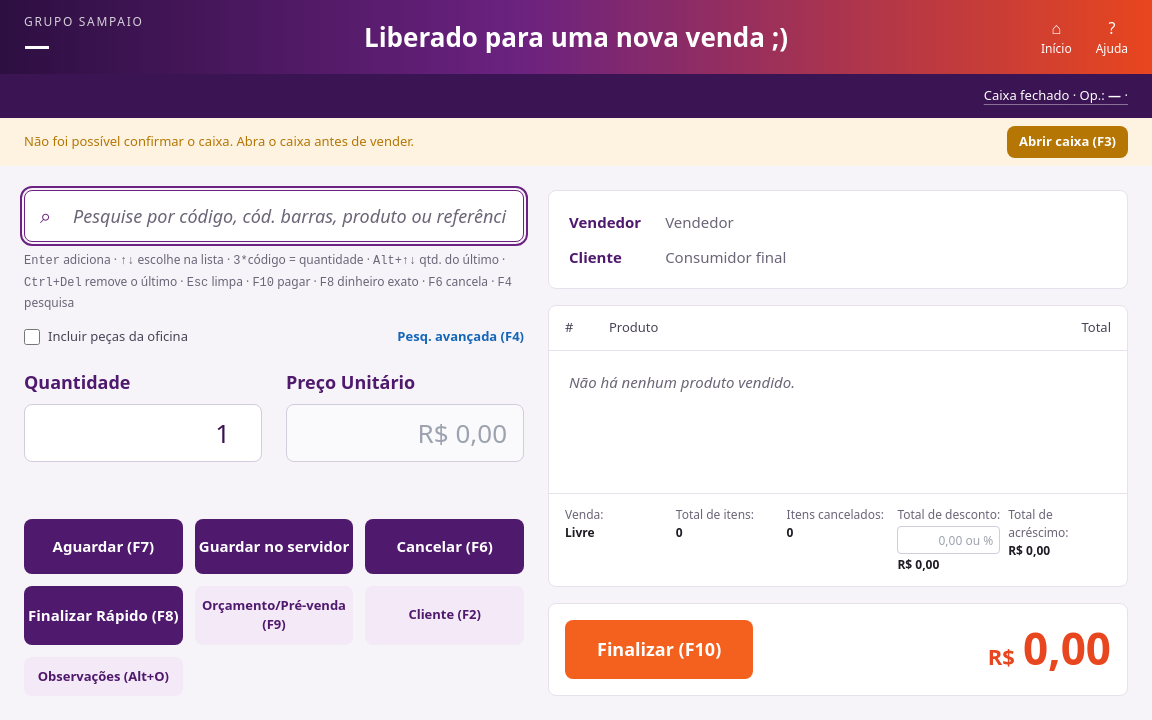
Test: a busca viva do F2 › quem só filtra achando de menos não some com o resto: termo vazio lista todos
What coordinates should you click on to do the following:
click the button "Cliente (F2)"
I would click on:
 (445, 615)
Its box is x1=365 y1=586 x2=524 y2=644.
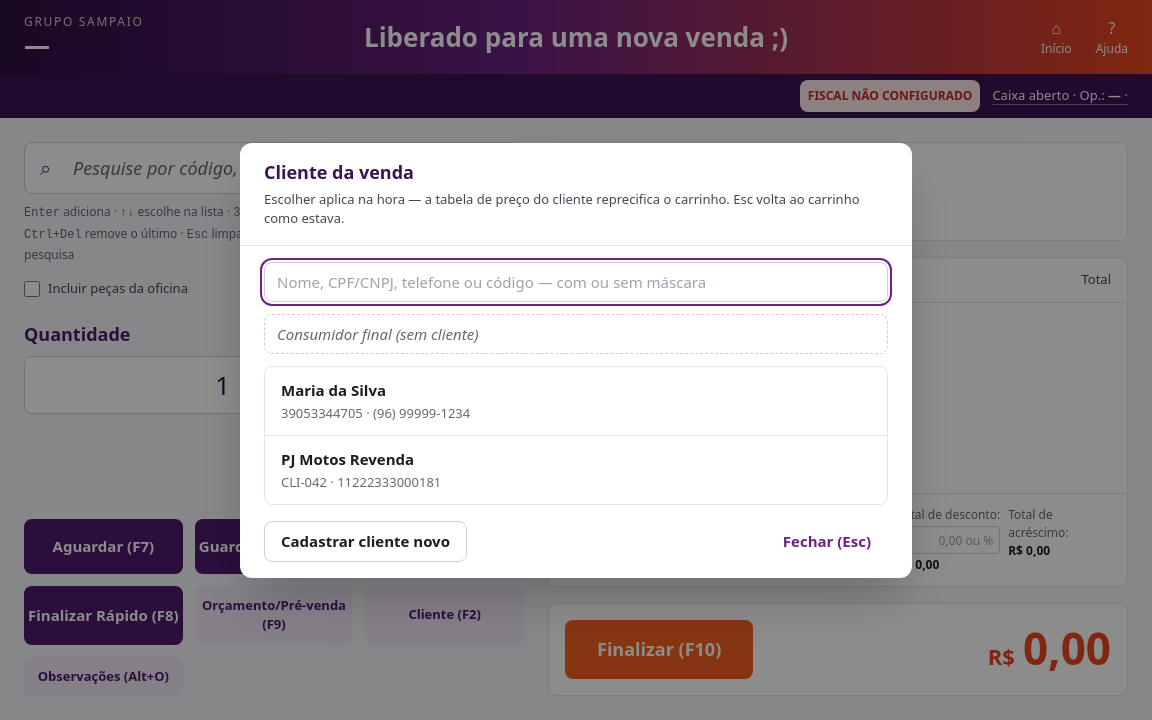
Result: the button "Maria da Silva" is shown at x1=265 y1=367 x2=887 y2=435
Result: the button "PJ Motos Revenda" is shown at x1=265 y1=436 x2=887 y2=504
